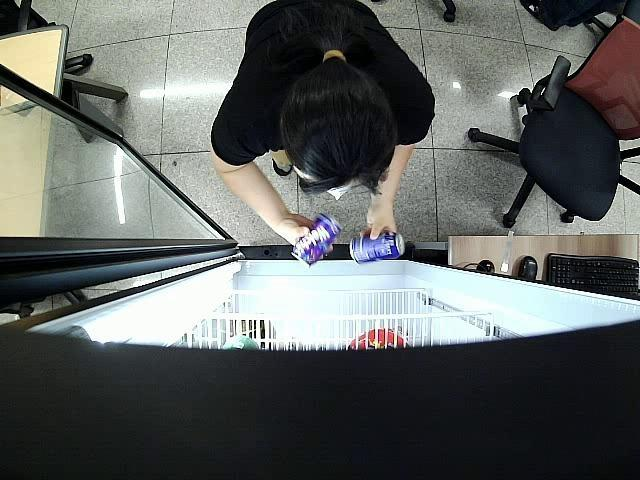14_welchsGrape: (289, 216, 344, 265), (350, 231, 406, 264)
